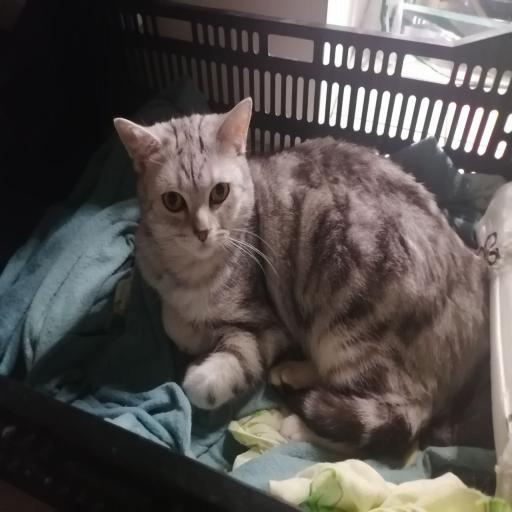cats: (114, 97, 489, 456)
